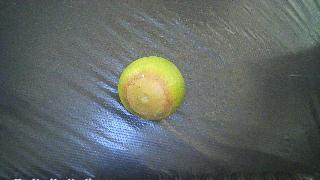DESECHO: (118, 56, 186, 120)
